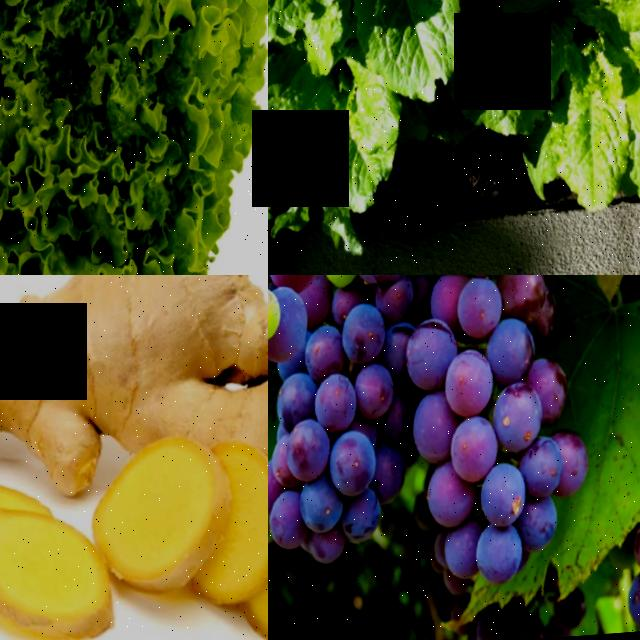ginger: (0, 275, 268, 526)
grapes: (339, 275, 612, 609), (268, 275, 458, 579)
lettuce: (284, 0, 640, 255), (0, 0, 268, 275), (268, 0, 337, 275)
